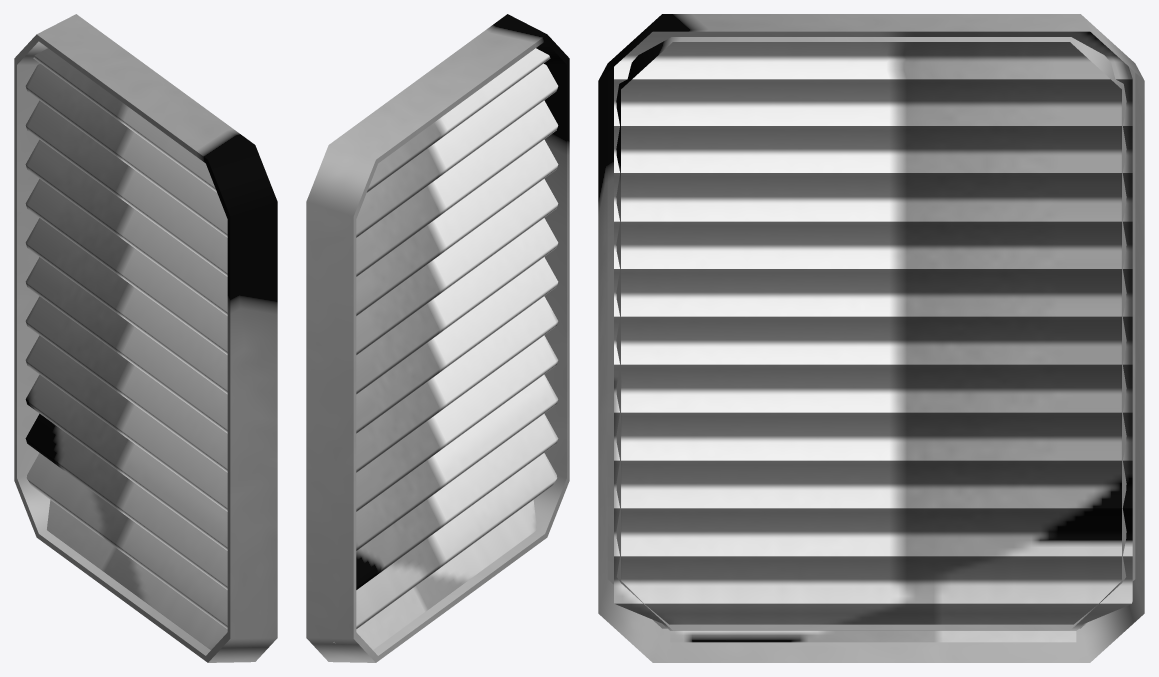
The model's file is WF_Went.fbx.
3 renders of one model, left to right at view 1: azimuth 30°, elevation 25°; view 2: azimuth 150°, elevation 25°; view 3: azimuth 270°, elevation 25°, orthographic. The views are drawn at different scales.
Visible parts, largest first — view 1: WF_Went; view 2: WF_Went; view 3: WF_Went.
Boxes of the visible parts, x1,y1,x2,y2 form: WF_Went: [14, 14, 277, 662]; WF_Went: [306, 14, 569, 662]; WF_Went: [598, 14, 1144, 662].
Bounding box in the file's own units: 4.38 × 49.65 × 38.94.
